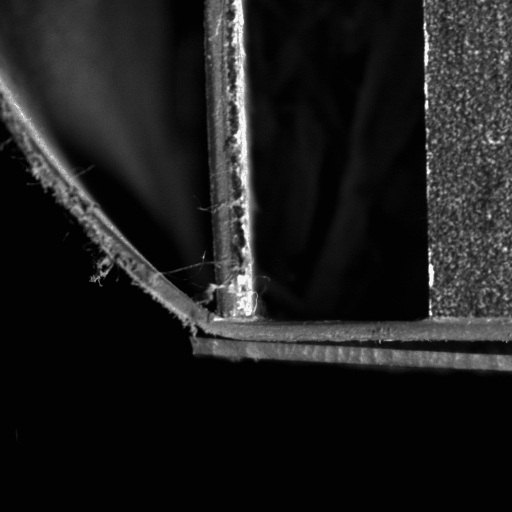kaijiao: (0, 62, 227, 338), (210, 321, 511, 378)
